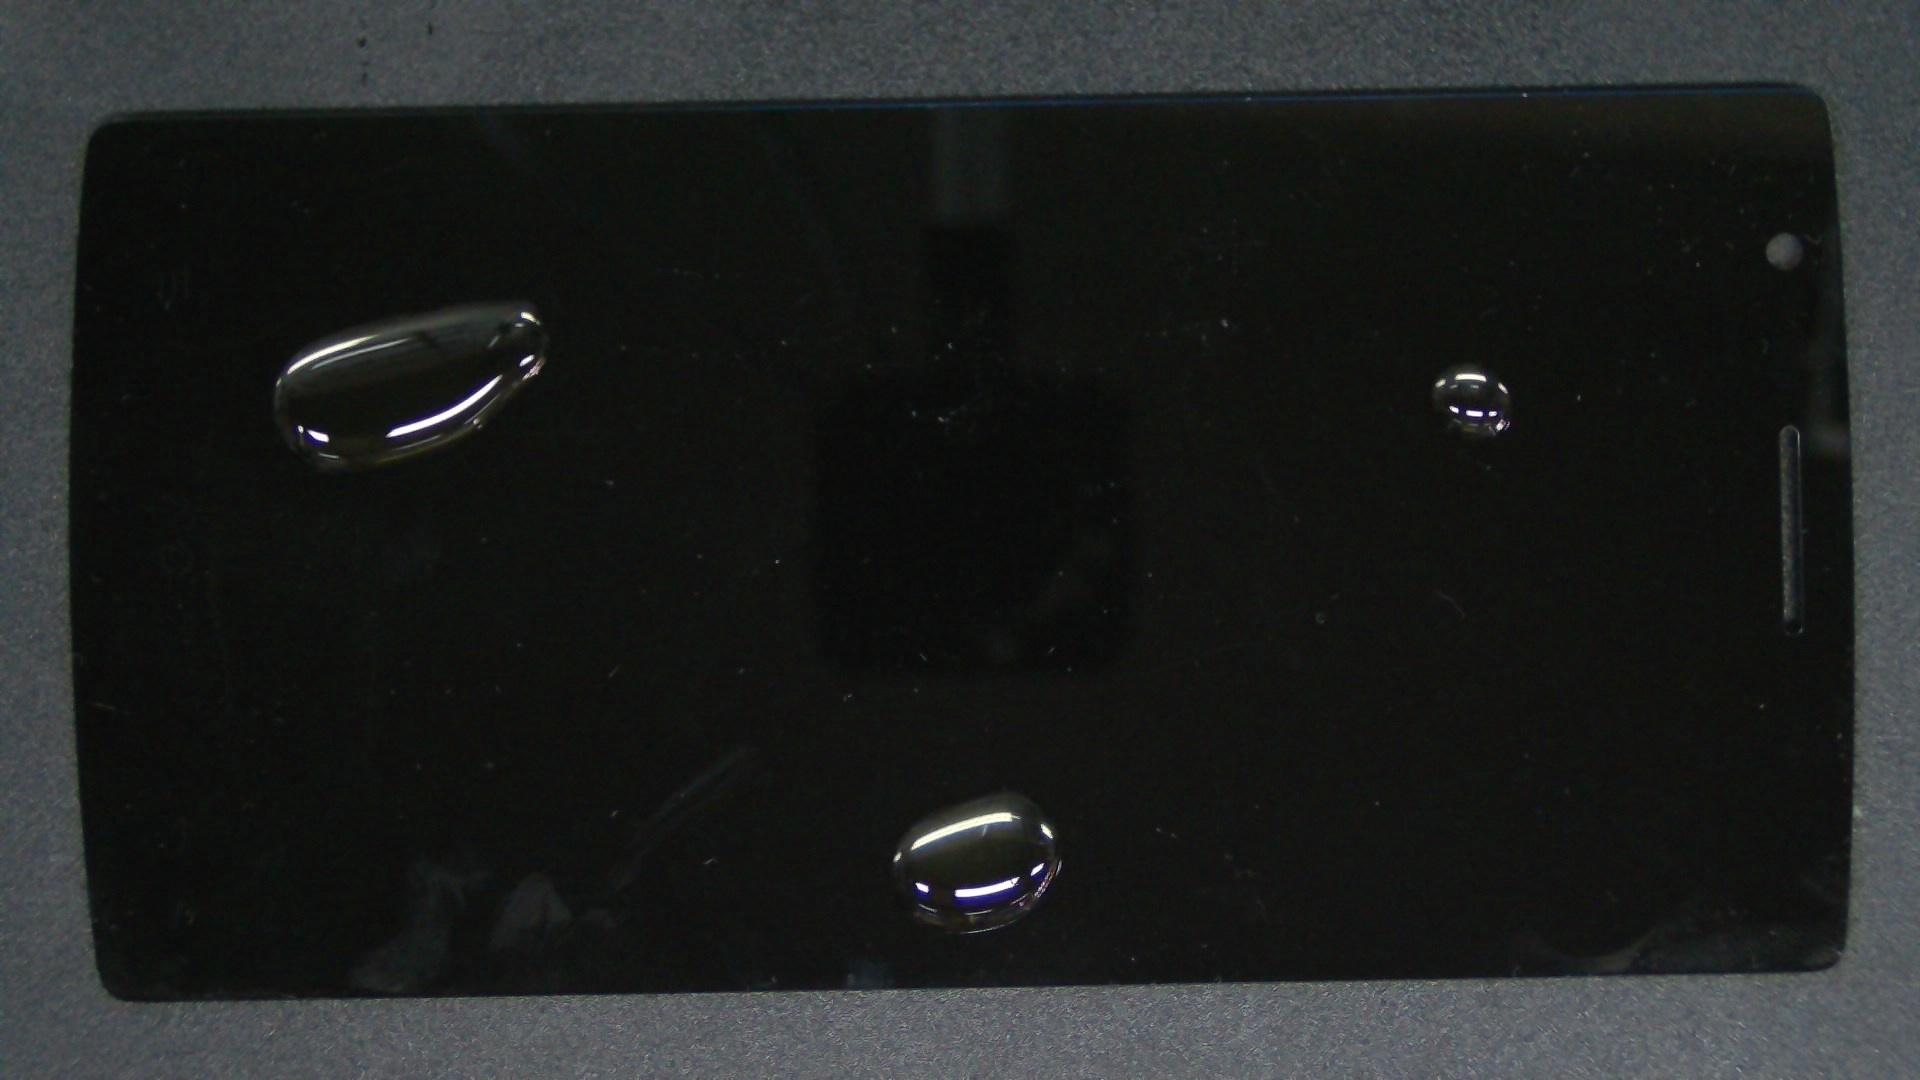oil: (506, 396, 1517, 1080), (737, 181, 1920, 545), (258, 150, 772, 451)
